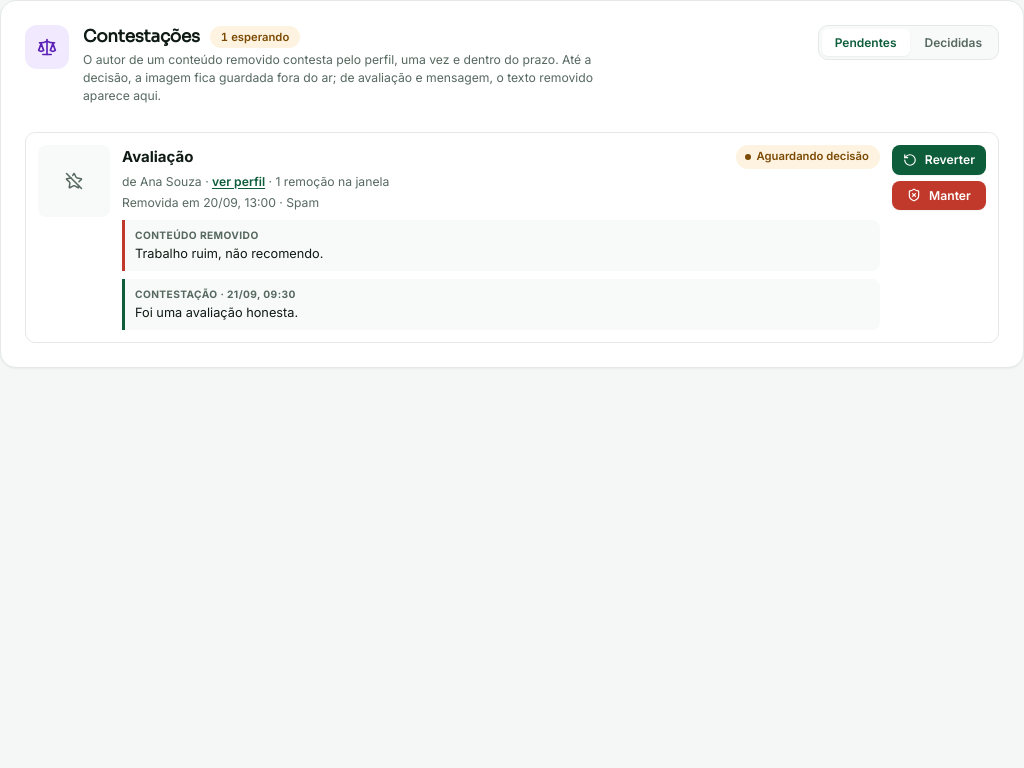
AppealsSection: a decisão › manter avaliação: o conteúdo continua fora do ar, e o aviso é só "Remoção mantida."
Expected: the text "Avaliação" is shown, 122,146 -> 194,168
Click the button "Manter": (939, 195) 892,181 -> 986,210
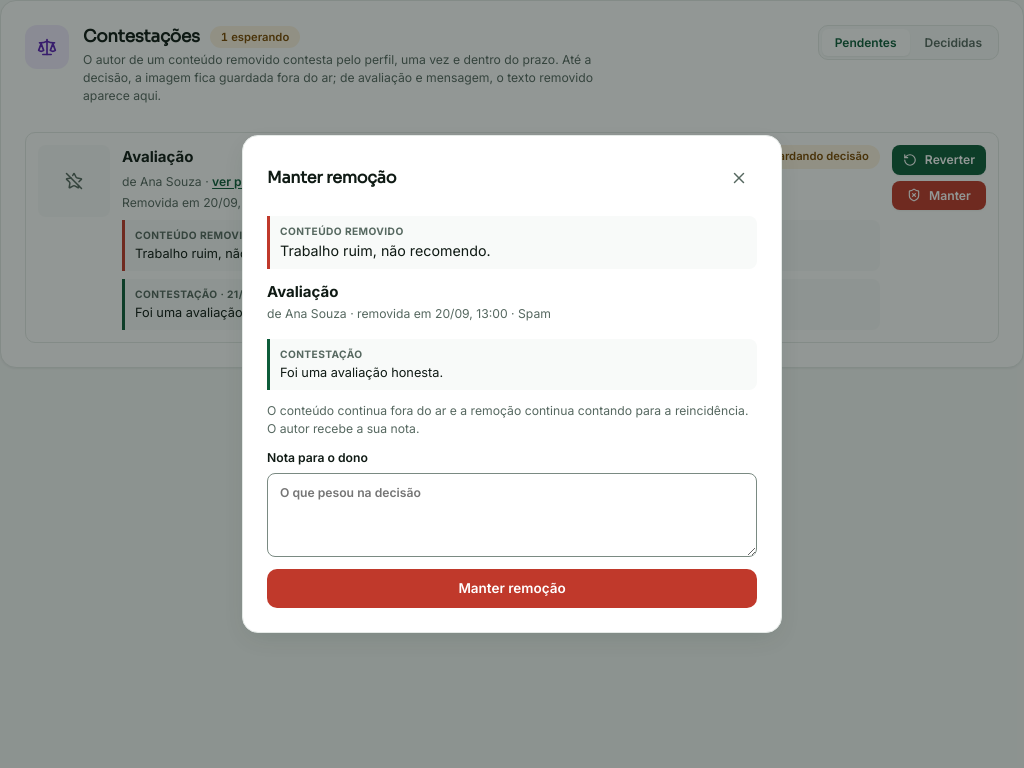
Result: the text "O conteúdo continua fora do ar e a remoção continua contando para a reincidência. O autor recebe a sua nota." is shown at 267,403 -> 748,436
In the text box labelled "Nota para o dono": (512, 515) 267,473 -> 757,557, type "É propaganda."
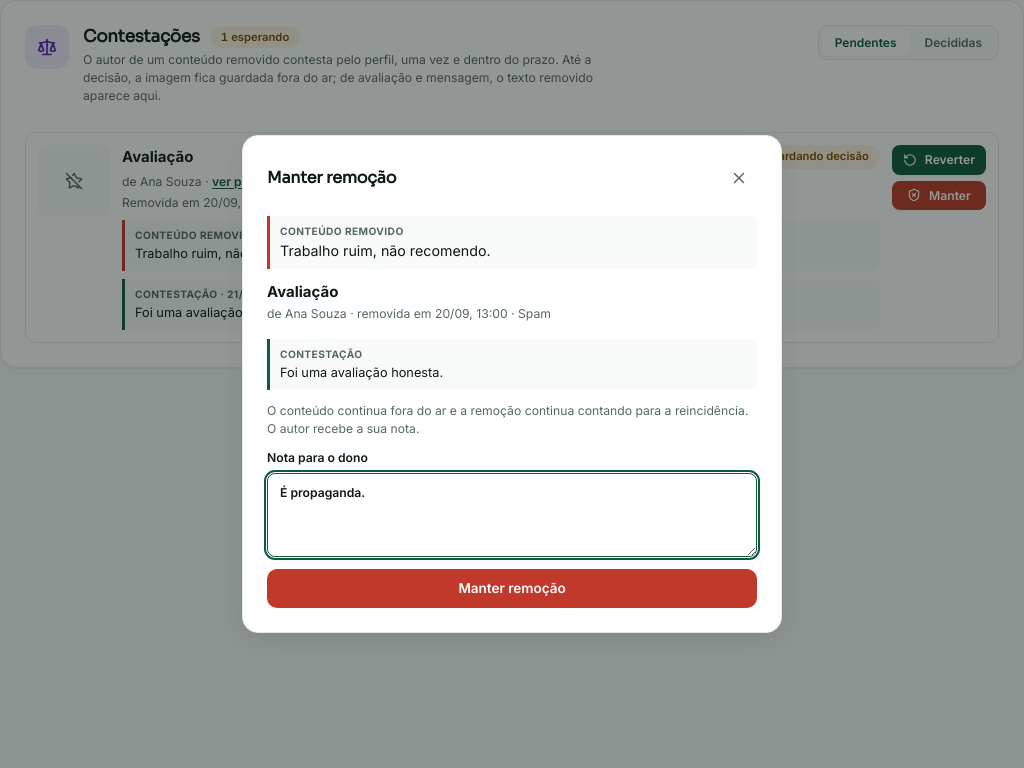
Click the button "Manter remoção": (512, 589) 267,569 -> 757,608
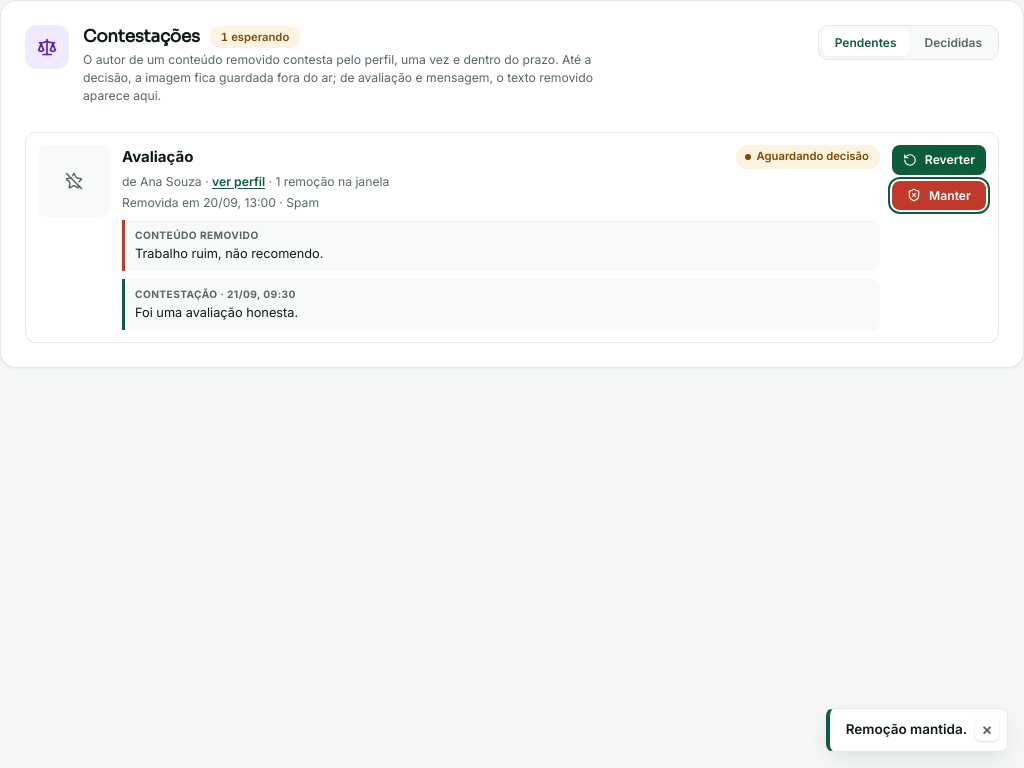
Result: the text "Remoção mantida." is shown at 846,720 -> 967,740
